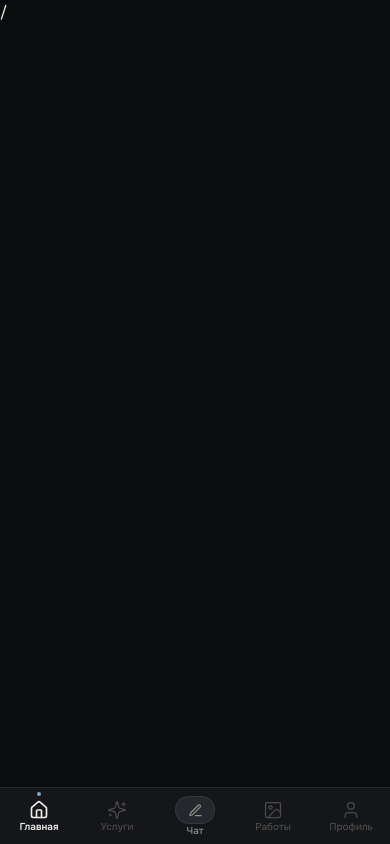
Test: BottomNav (мобильное меню) › центральная кнопка открывает визард брифа, а не ведёт на несуществующий /brief
Click the button "Чат" at (195, 816), box [156, 788, 234, 843]
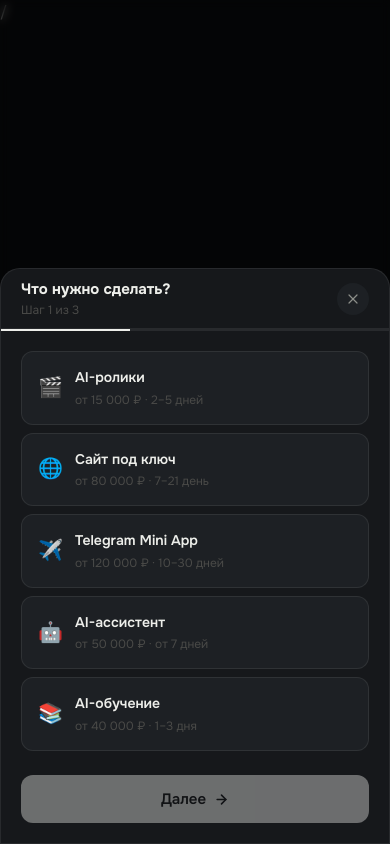
Check: the text with test id "loc" reads "/", box [0, 2, 7, 22]
Check: the text "Что нужно сделать?" is shown, box [21, 277, 170, 301]
